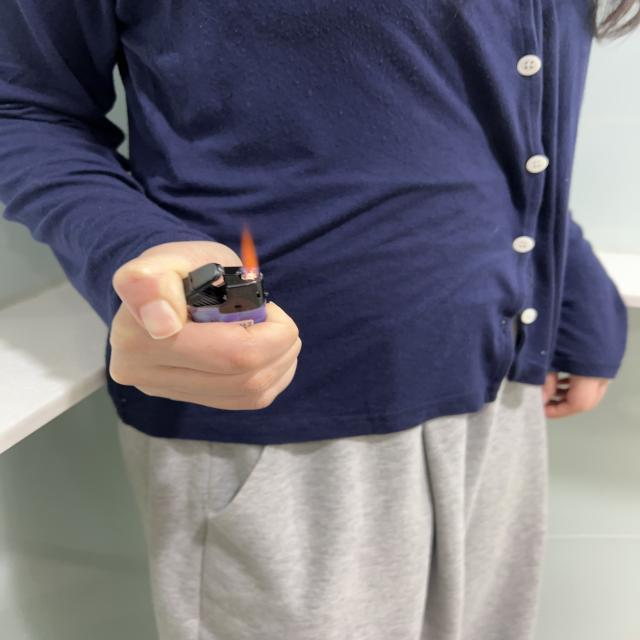fire: (240, 230, 262, 280)
